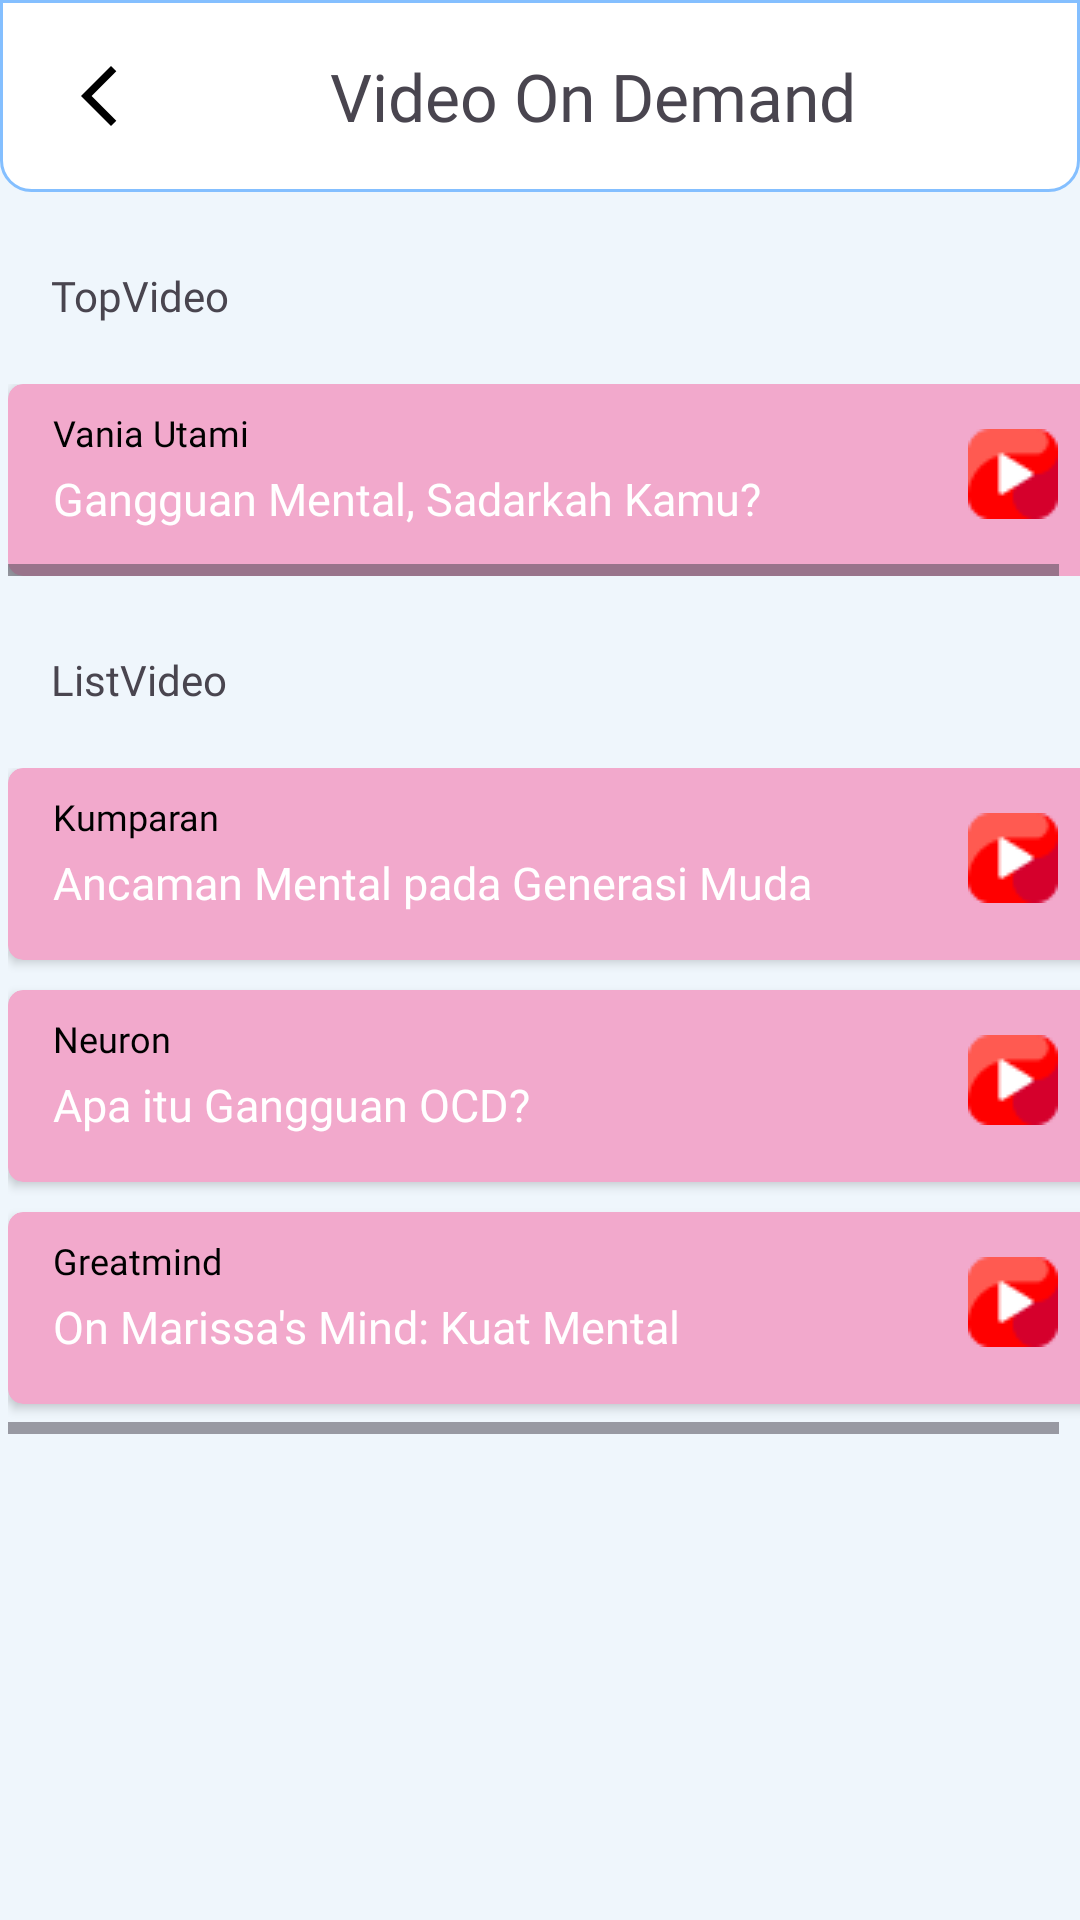

Screen size 1080x1920. Icon name, then its box in pixels as {"left": x1, "top": y1, "right": x2, "bottom": y2}:
kembali: {"left": 81, "top": 66, "right": 116, "bottom": 126}
